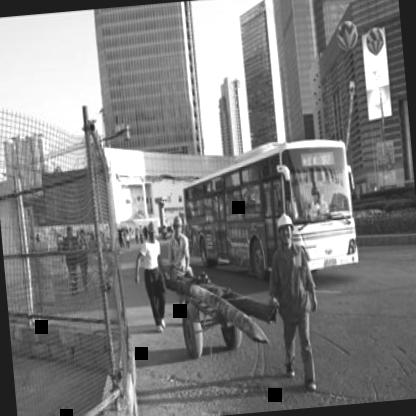helmet: (272, 212, 296, 247), (168, 215, 186, 241), (142, 218, 159, 241)
